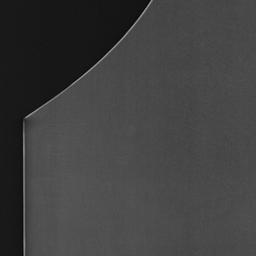Crescent gap: (24, 0, 149, 118)
